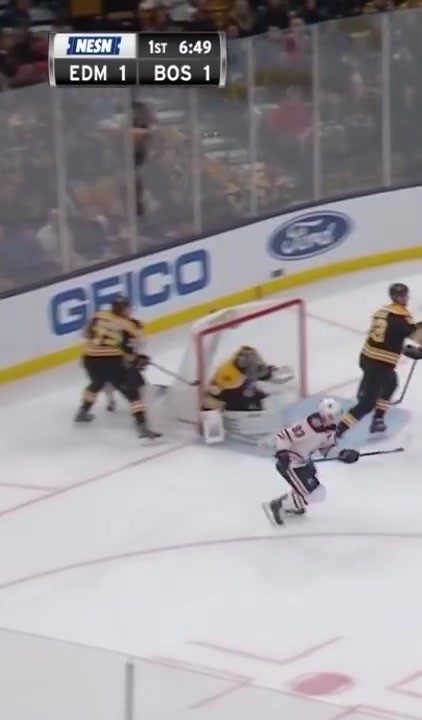Geico: (41, 243, 208, 345)
